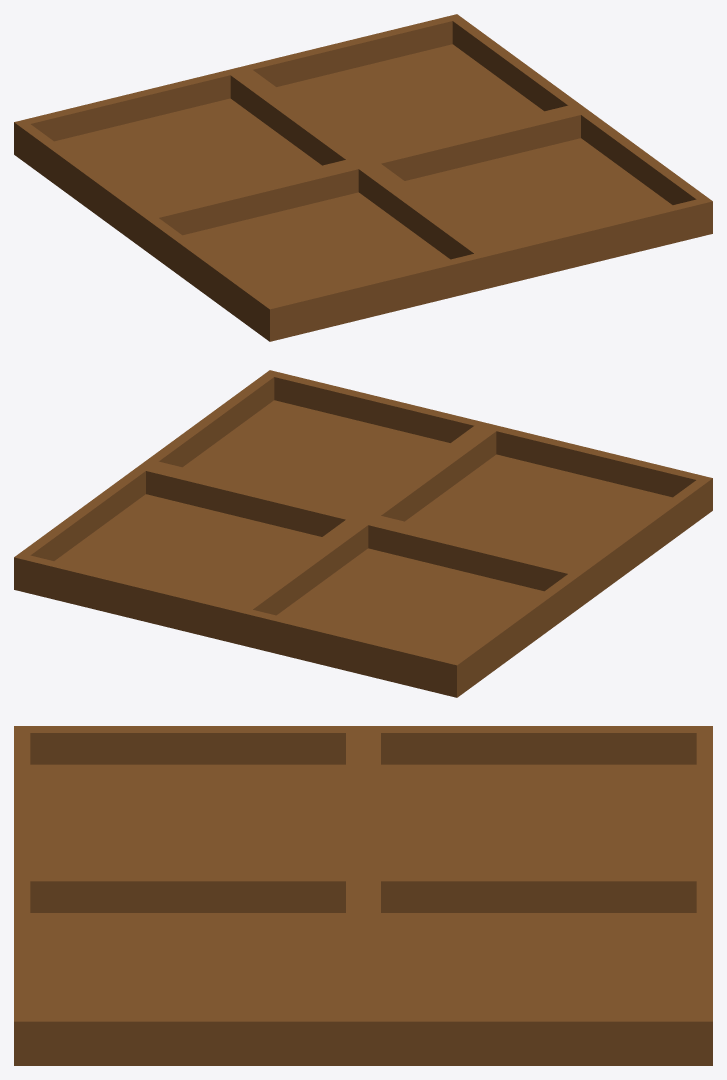
Rendered from block_creator.glb.
The picture shows the model from 3 angles, top to bottom: view 1: azimuth 30°, elevation 25°; view 2: azimuth 150°, elevation 25°; view 3: azimuth 270°, elevation 25°; orthographic projection. The views are drawn at different scales.
Visible parts, largest first — view 1: BlockCreator; view 2: BlockCreator; view 3: BlockCreator.
Part boxes in pixels (x1,y1,x2,y2): BlockCreator: (14, 14, 712, 341); BlockCreator: (14, 370, 712, 697); BlockCreator: (14, 726, 712, 1065).
Size of the model in its own units: 10 by 0.7 by 10.
